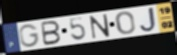5: (68, 16, 88, 42)
B: (40, 20, 62, 47)
G: (18, 24, 41, 48)
J: (139, 6, 158, 33)
N: (89, 13, 111, 40)
O: (115, 10, 137, 35)
